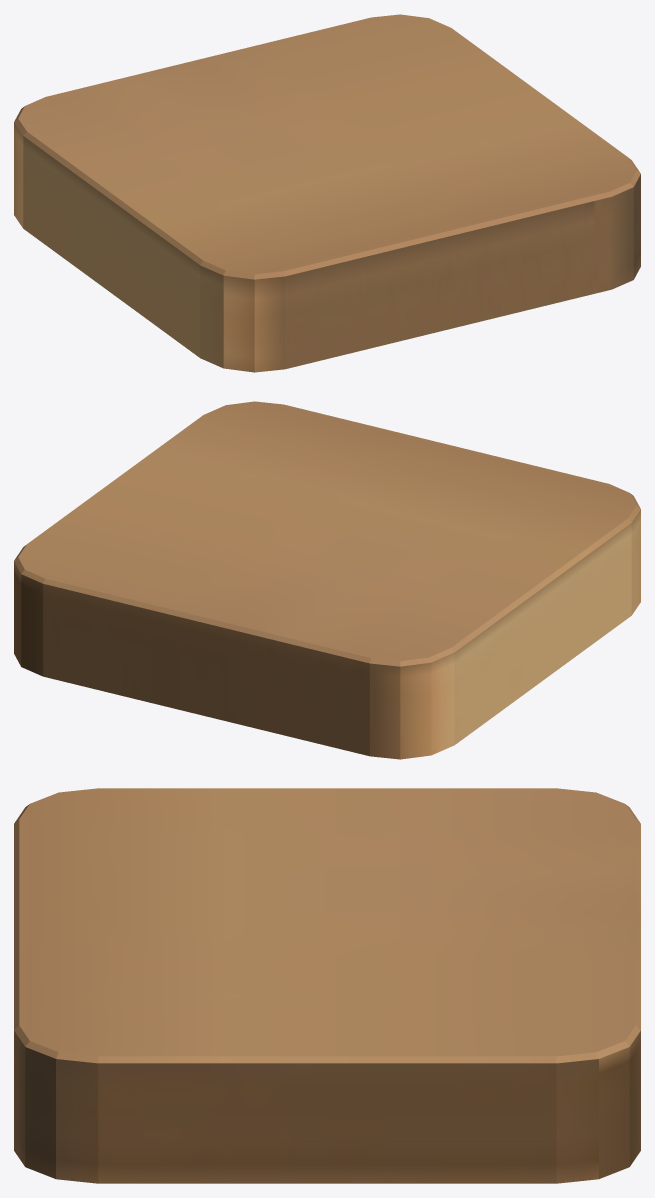
Rendered from pingtai001.glb.
The picture shows the model from 3 angles, top to bottom: view 1: azimuth 30°, elevation 25°; view 2: azimuth 150°, elevation 25°; view 3: azimuth 270°, elevation 25°; orthographic projection. The views are drawn at different scales.
Parts seen in each view (by area): view 1: dengzi__3_; view 2: dengzi__3_; view 3: dengzi__3_.
Boxes of the visible parts, box(x1,y1,x2,y2) form: dengzi__3_: box(14, 14, 640, 372); dengzi__3_: box(14, 401, 640, 759); dengzi__3_: box(14, 788, 640, 1183).
Size of the model in its own units: 1.44 by 0.3076 by 1.4.
Materials: 1 (1 with a texture image).
